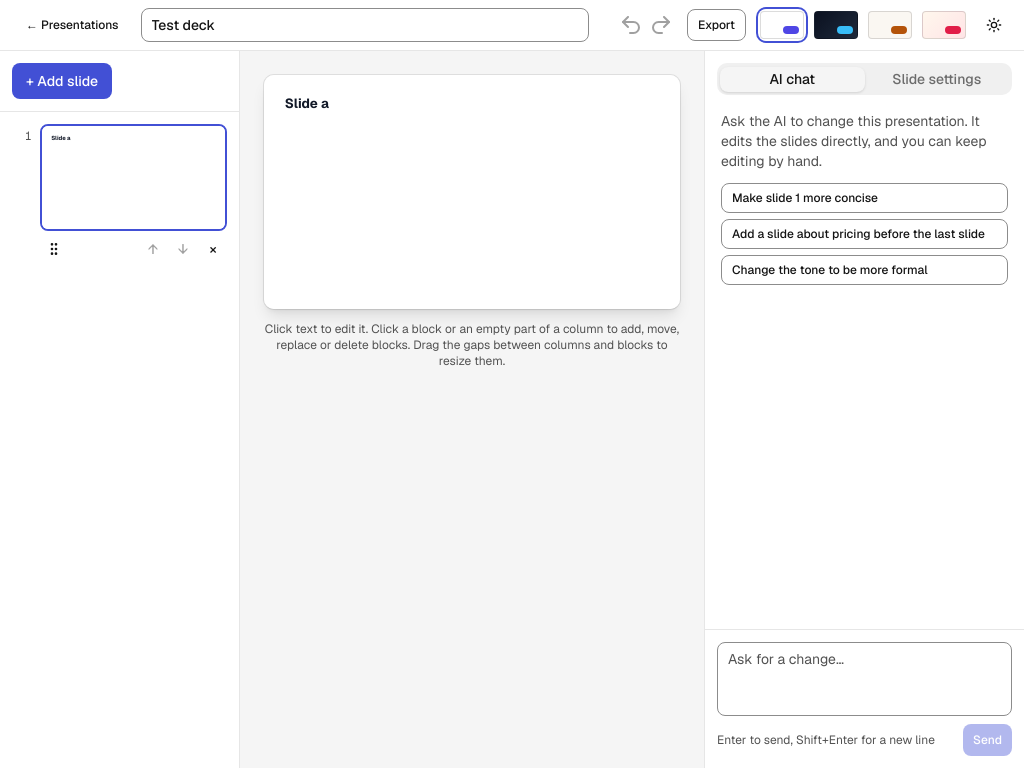
Test: DeckEditor › undoes and redoes an edit with the header buttons and keyboard shortcuts
Click the tab "Slide settings": (937, 79) [864,66,1009,92]
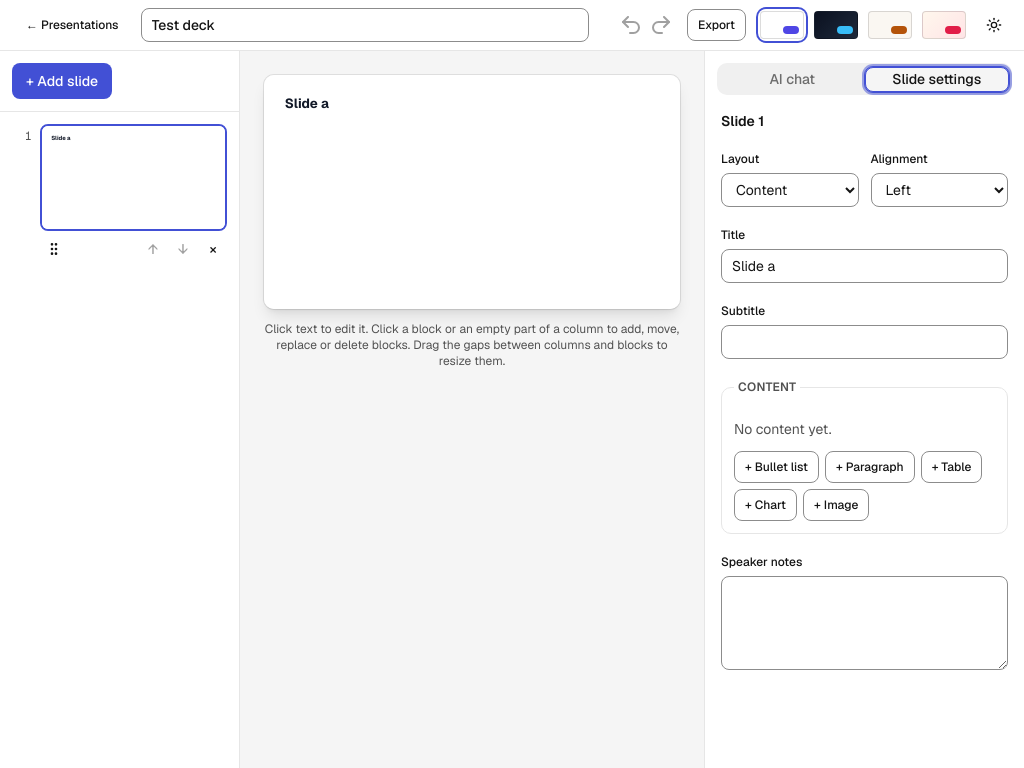
Replace the text in the field labelled "Title" with "Pricing": (864, 266) [721,249,1008,283]
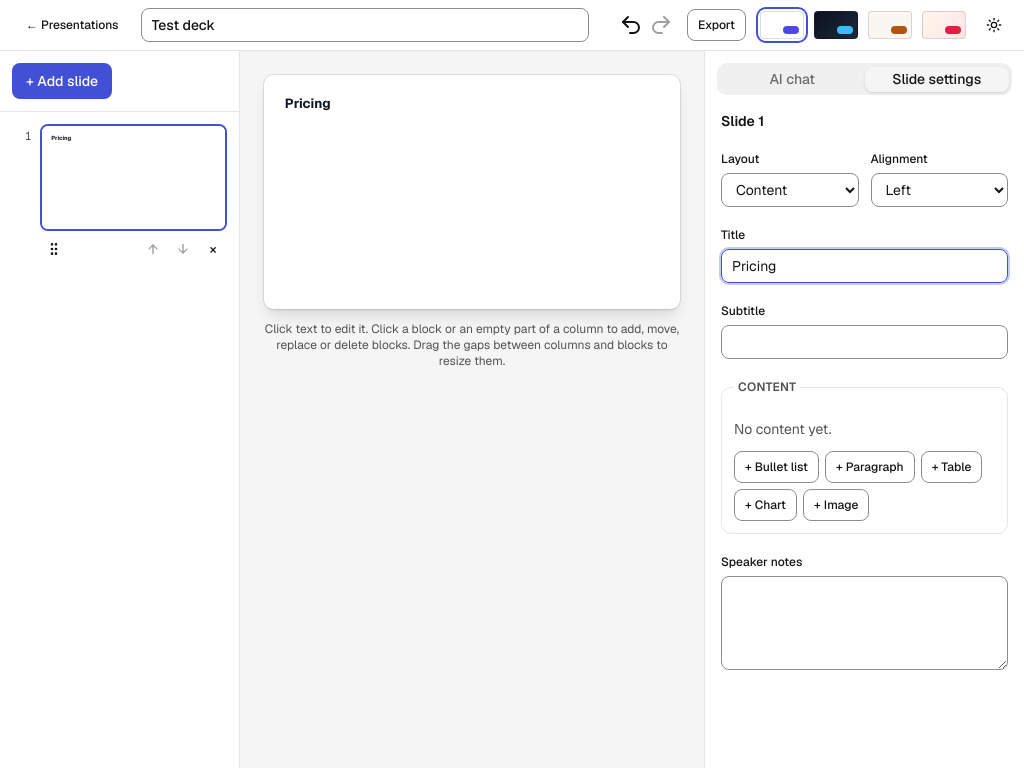
Check: the button named "Redo" is disabled, box [647,11,675,39]
Click the button named "Undo": (631, 25) [617,11,645,39]
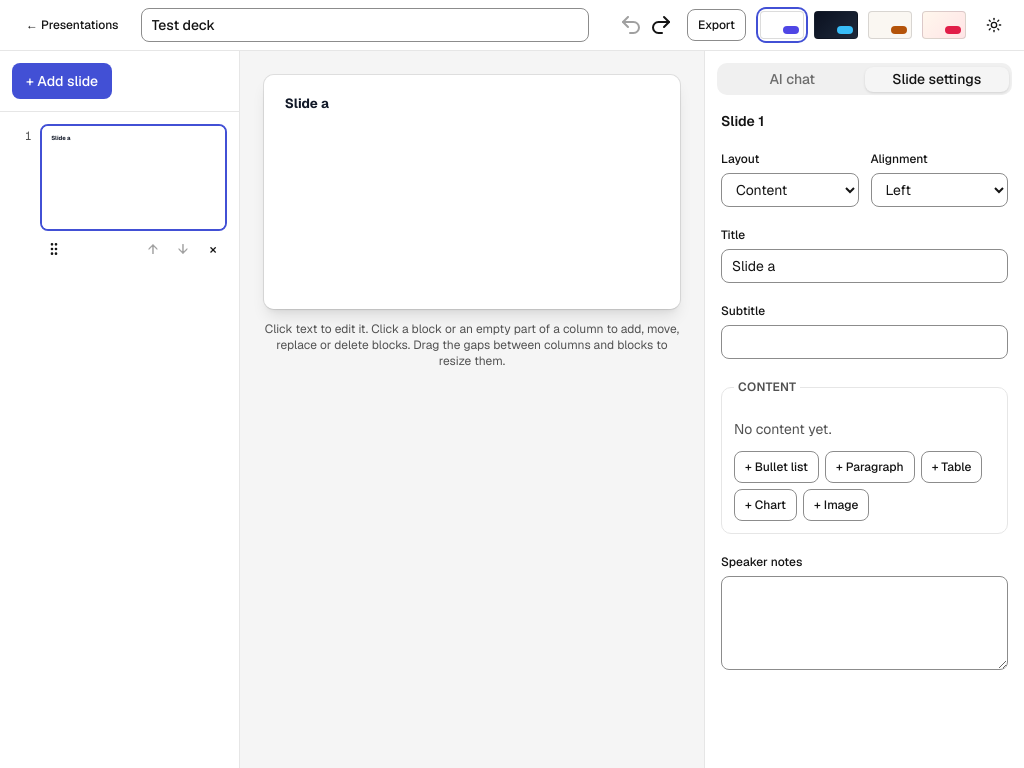
Check: the 2nd heading "Slide a" is shown, box [51,134,70,142]
Check: the heading "Slide a" is shown, box [285,95,329,112]
Type keys "{Control>}{Shift>}z{/Shift}{/Control}"
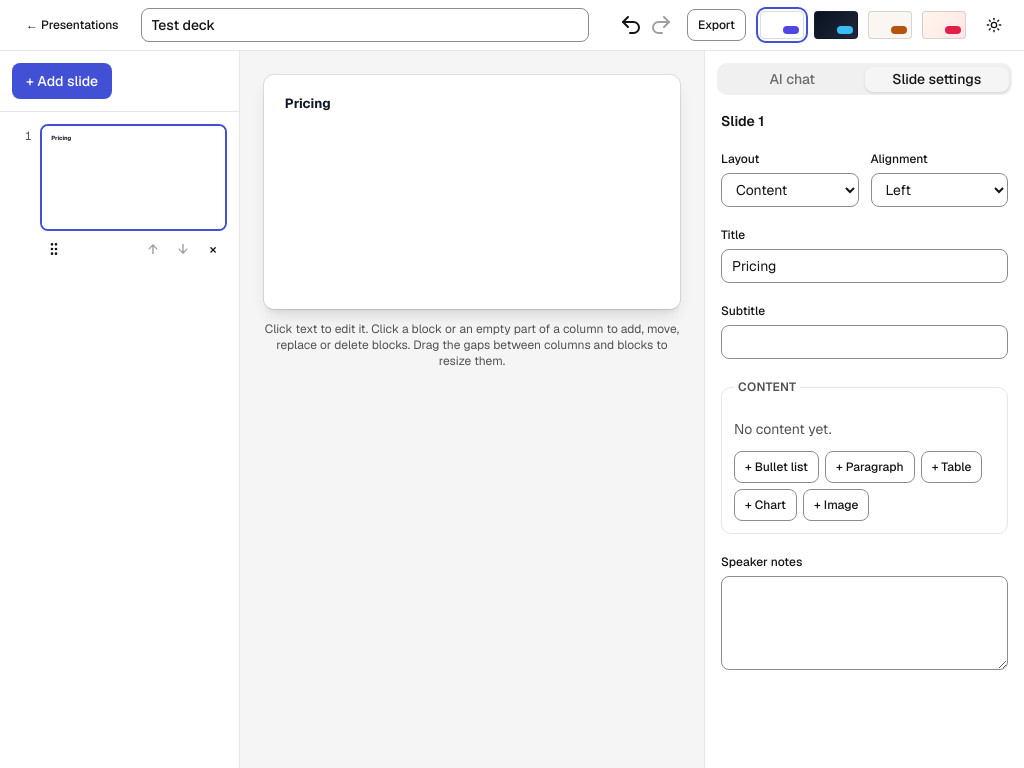
Check: the 2nd heading "Pricing" is shown, box [51,134,71,142]
Type keys "{Control>}z{/Control}"
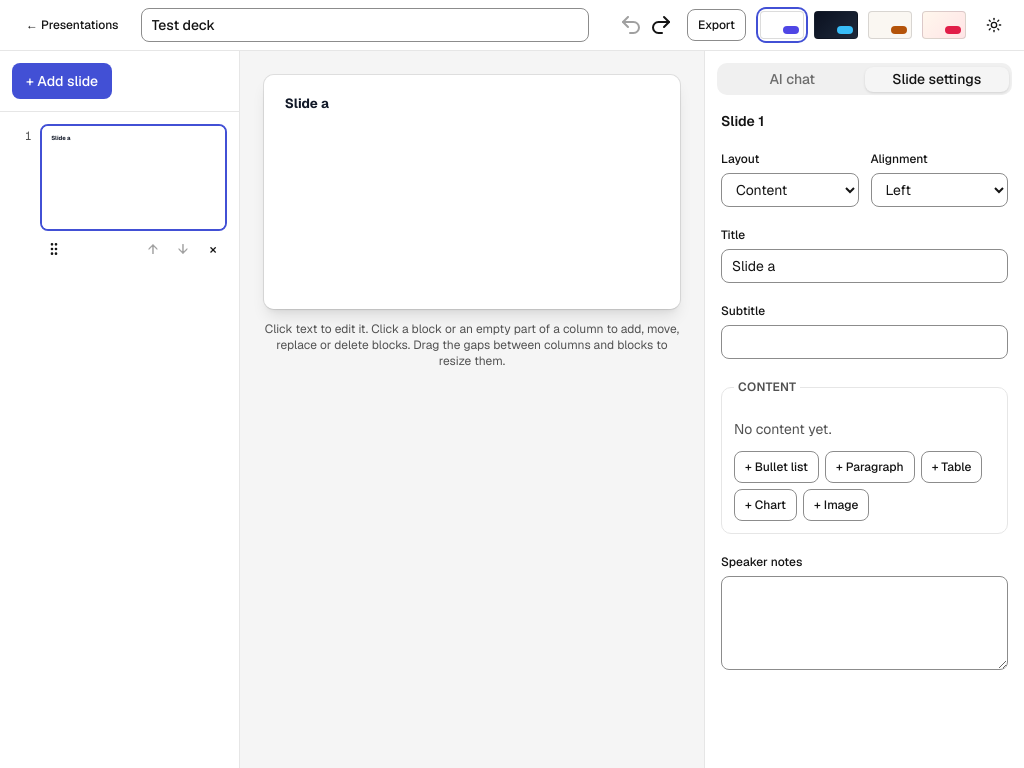
Check: the 2nd heading "Slide a" is shown, box [51,134,70,142]
